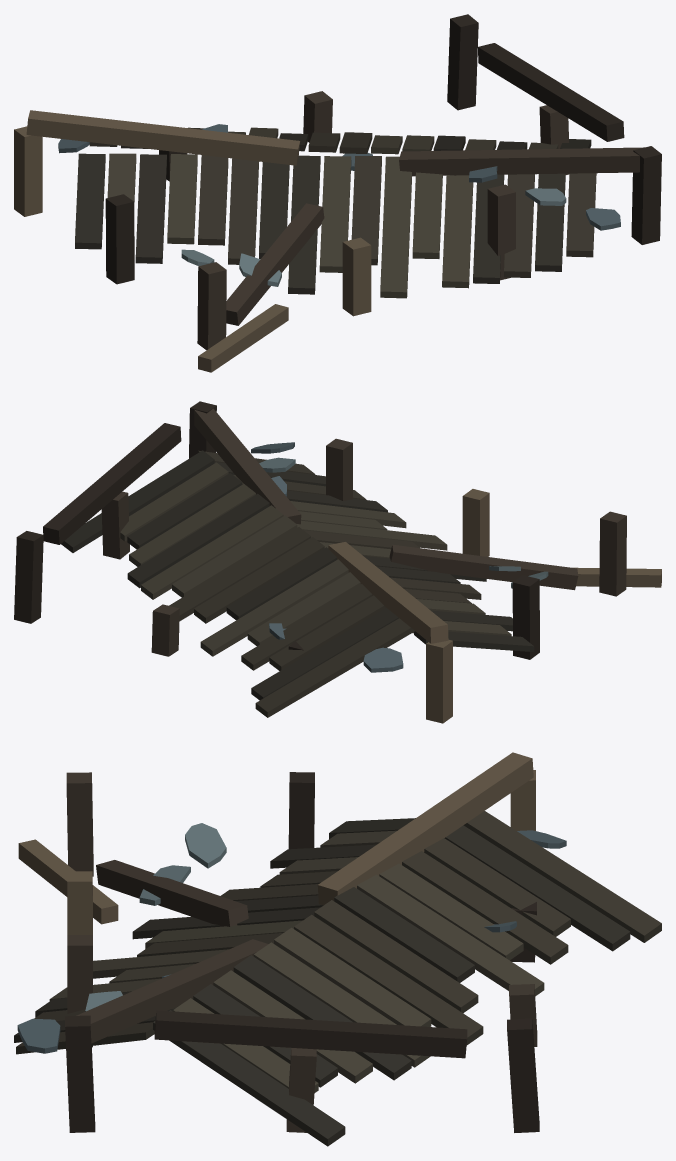
The model's file is VerHut10a.glb.
The picture shows the model from 3 angles, top to bottom: view 1: azimuth 30°, elevation 25°; view 2: azimuth 150°, elevation 25°; view 3: azimuth 270°, elevation 25°; orthographic projection. The views are drawn at different scales.
Visible parts, largest first — view 1: VerHut10a_char2; view 2: VerHut10a_char2; view 3: VerHut10a_char2.
Boxes of the visible parts, x1,y1,x2,y2 form: VerHut10a_char2: [14, 14, 661, 372]; VerHut10a_char2: [14, 401, 661, 723]; VerHut10a_char2: [14, 752, 661, 1146].
Size of the model in its own units: 5.47 by 1.01 by 4.95.
